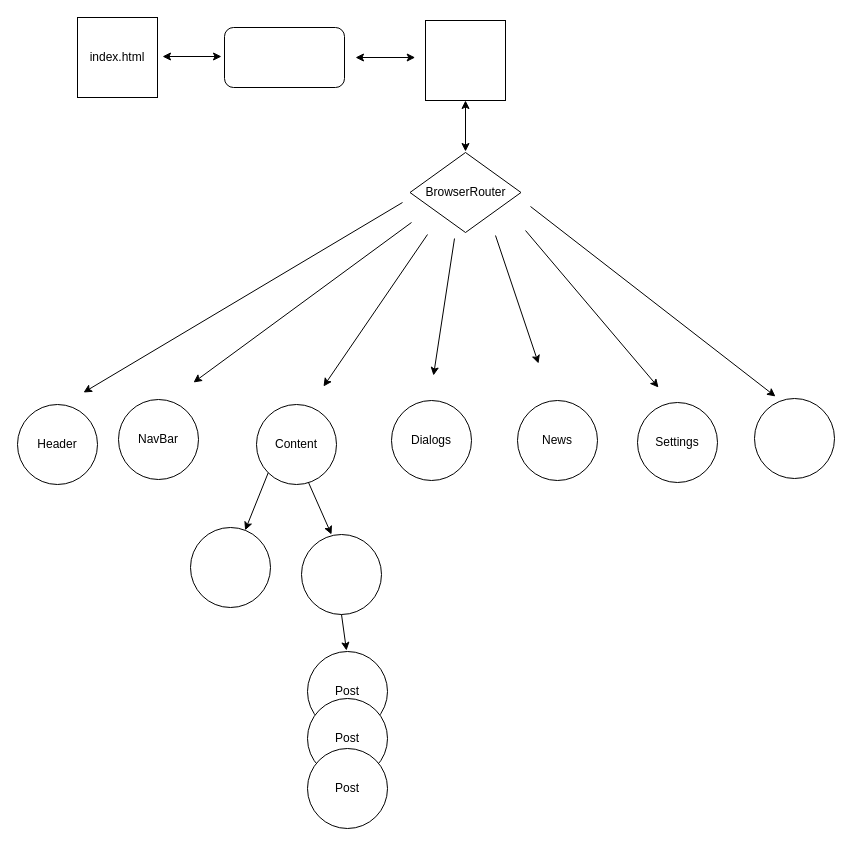
This 852x846 diagram has some shape labels left out. The shapes that lost their labels are listed below. From the top down, each one's box as (x1, y1, x2, y2) in pixels, then its label:
(224, 26, 344, 88): index.js
(424, 20, 506, 100): App.jsx
(754, 398, 834, 478): Music
(190, 526, 270, 608): ProfileInfo
(300, 534, 382, 614): Posts
